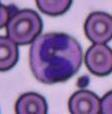N: (28, 33, 82, 83)
